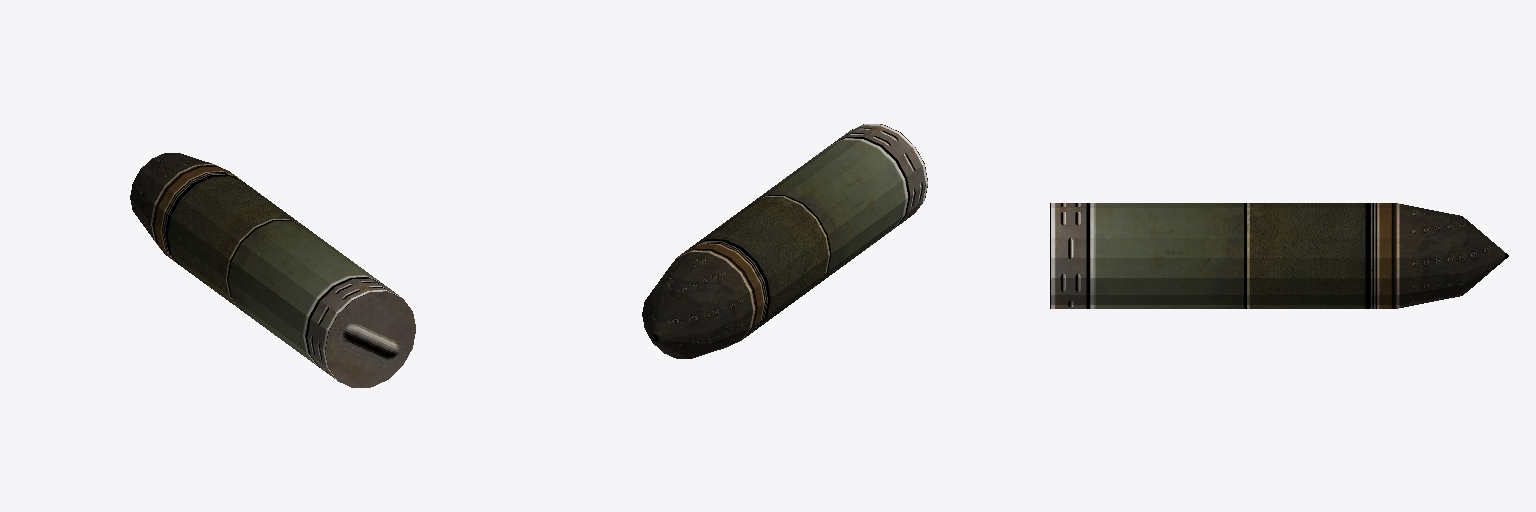
The picture shows the model from 3 angles: view 1: azimuth 30°, elevation 25°; view 2: azimuth 150°, elevation 25°; view 3: azimuth 270°, elevation 25°; orthographic projection.
Visible parts, largest first — view 1: Cylinder; view 2: Cylinder; view 3: Cylinder.
Part boxes in pixels (x1,y1,x2,y2): Cylinder: (130, 153, 415, 387); Cylinder: (642, 124, 927, 358); Cylinder: (1050, 203, 1508, 308).
Bounding box in the file's own units: 0.4 × 0.4 × 1.74.
1 materials, 1 textured.